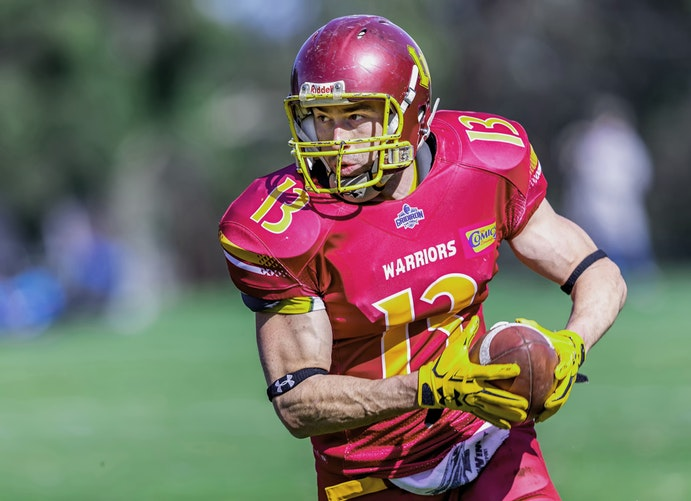helmet: (285, 20, 439, 161)
